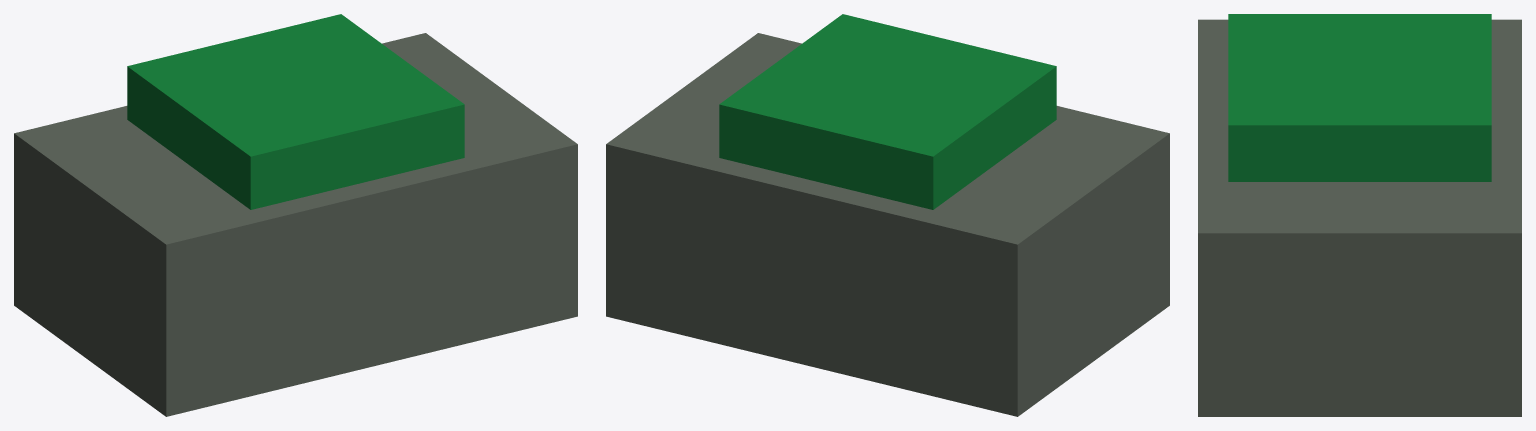
Rendered from 080_L103_LED3.fbx.
3 views of the same model, side by side, from view 1: azimuth 30°, elevation 25°; view 2: azimuth 150°, elevation 25°; view 3: azimuth 270°, elevation 25° (orthographic). The views are drawn at different scales.
Parts seen in each view (by area): view 1: 080_L103_LED3; view 2: 080_L103_LED3; view 3: 080_L103_LED3.
Part boxes in pixels (x1=…): 080_L103_LED3: x1=14, y1=14, x2=577, y2=416; 080_L103_LED3: x1=606, y1=14, x2=1169, y2=416; 080_L103_LED3: x1=1198, y1=14, x2=1521, y2=416.
Bounding box in the file's own units: 0.25 × 0.131 × 0.16.
